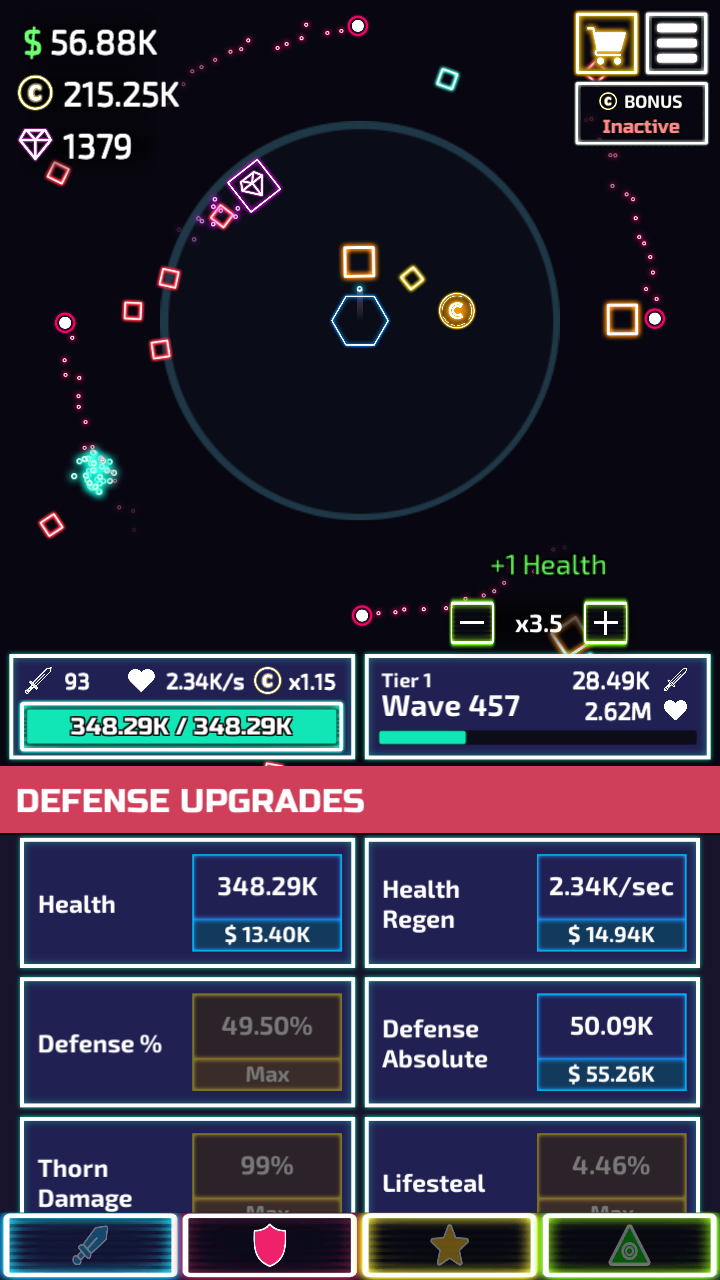B_Floating_Gem: (219, 157, 285, 214)
B_Menu_Closed: (573, 11, 705, 77)
B_Slot: (21, 984, 356, 1111), (367, 838, 696, 963), (20, 842, 349, 965), (367, 983, 696, 1104), (23, 1123, 354, 1216), (365, 1118, 698, 1209)
B_Slot_Button: (185, 995, 340, 1093), (532, 993, 687, 1090), (534, 856, 687, 952), (187, 860, 340, 954), (187, 1134, 349, 1209), (534, 1136, 689, 1209)
B_Slot_Label: (374, 1013, 504, 1077), (23, 1150, 139, 1212), (370, 871, 465, 938), (369, 1155, 498, 1202), (28, 1024, 167, 1063), (25, 879, 125, 929)
B_Slot_Maxed: (185, 1002, 338, 1091), (187, 1136, 347, 1209), (534, 1134, 691, 1207)
B_Slot_Price: (210, 913, 317, 958), (550, 920, 668, 952), (550, 1054, 660, 1086)
B_Slot_Value: (539, 867, 682, 906), (550, 1145, 662, 1184), (554, 1006, 662, 1045), (205, 1009, 322, 1043), (207, 869, 322, 901), (214, 1150, 313, 1182)
B_Tab_Defense: (0, 769, 719, 833)
